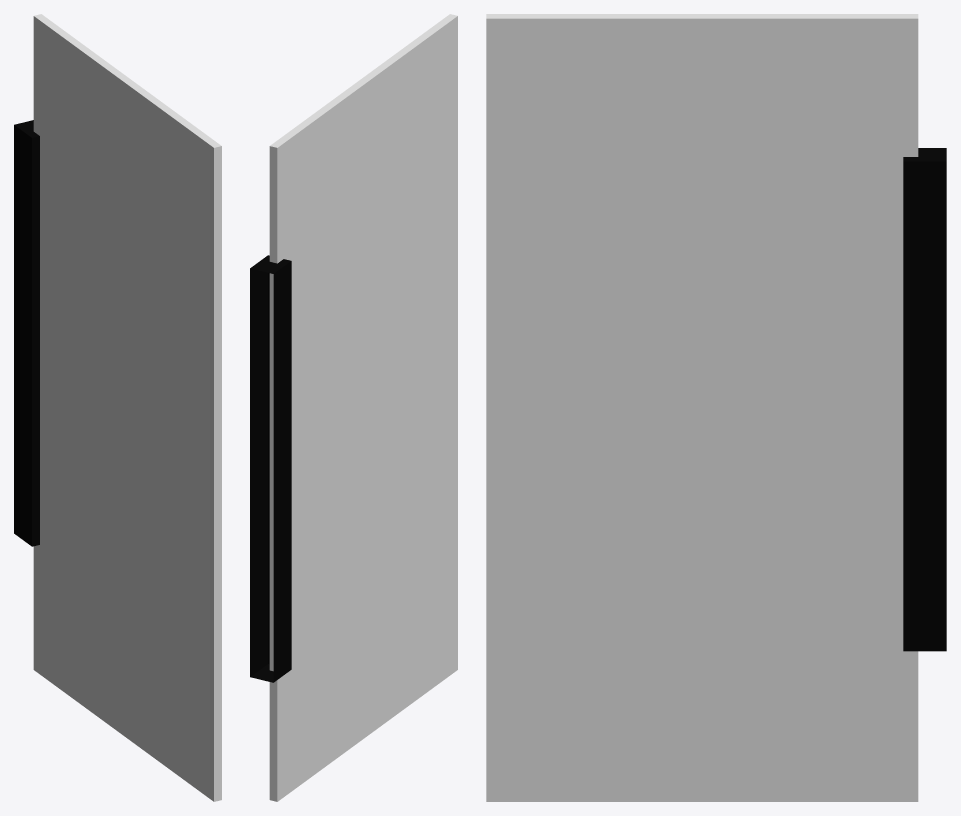
The model's file is Partition.FBX.
3 renders of one model, left to right at view 1: azimuth 30°, elevation 25°; view 2: azimuth 150°, elevation 25°; view 3: azimuth 270°, elevation 25°, orthographic. The views are drawn at different scales.
Visible parts, largest first — view 1: Partition; view 2: Partition; view 3: Partition.
Part boxes in pixels (x1,y1,x2,y2): Partition: [14, 14, 221, 801]; Partition: [250, 14, 457, 801]; Partition: [486, 14, 946, 801].
Size of the model in its own units: 4.5 by 120 by 63.92.
